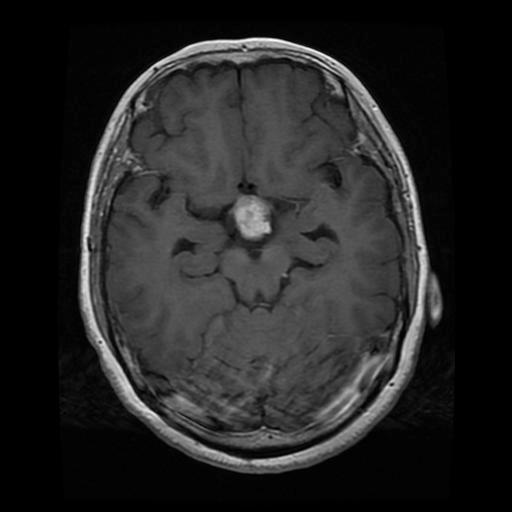Tumour-Pituitary: (226, 187, 279, 243)
